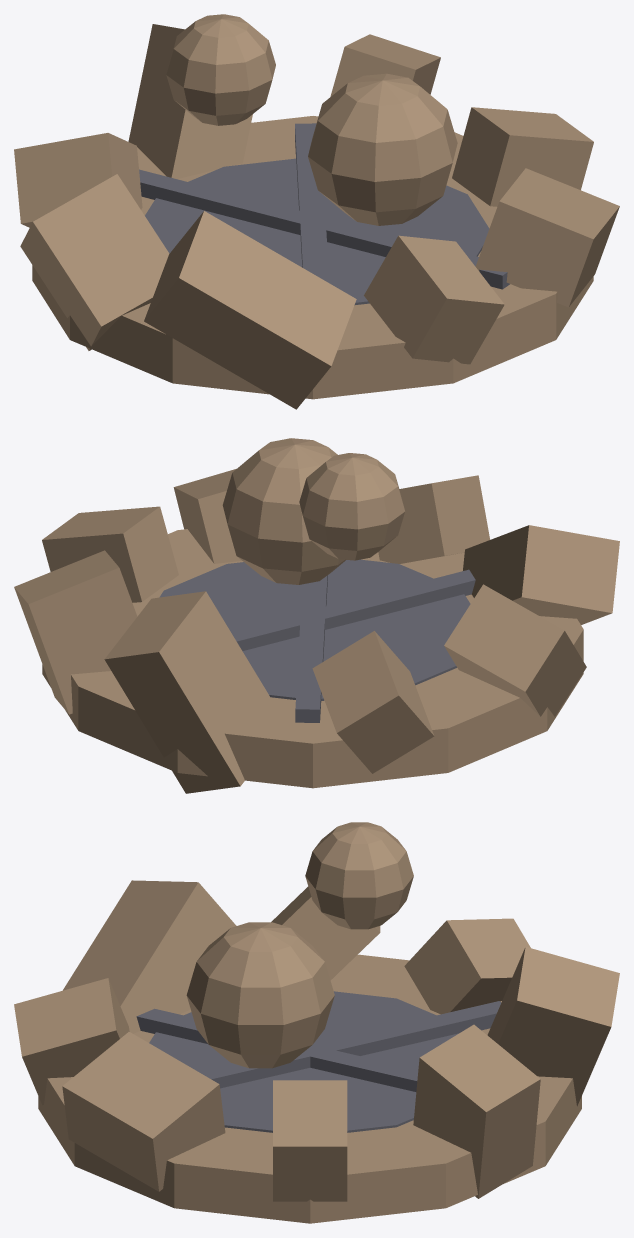
Rendered from earthquake.glb.
3 renders of one model, top to bottom at view 1: azimuth 30°, elevation 25°; view 2: azimuth 150°, elevation 25°; view 3: azimuth 270°, elevation 25°, orthographic. The views are drawn at different scales.
Parts seen in each view (by area): view 1: earthquake; view 2: earthquake; view 3: earthquake.
Part boxes in pixels (x1,y1,x2,y2): earthquake: [14, 14, 619, 409]; earthquake: [14, 438, 619, 793]; earthquake: [14, 822, 619, 1223].
Bounding box in the file's own units: 2.41 × 1.24 × 2.45.
